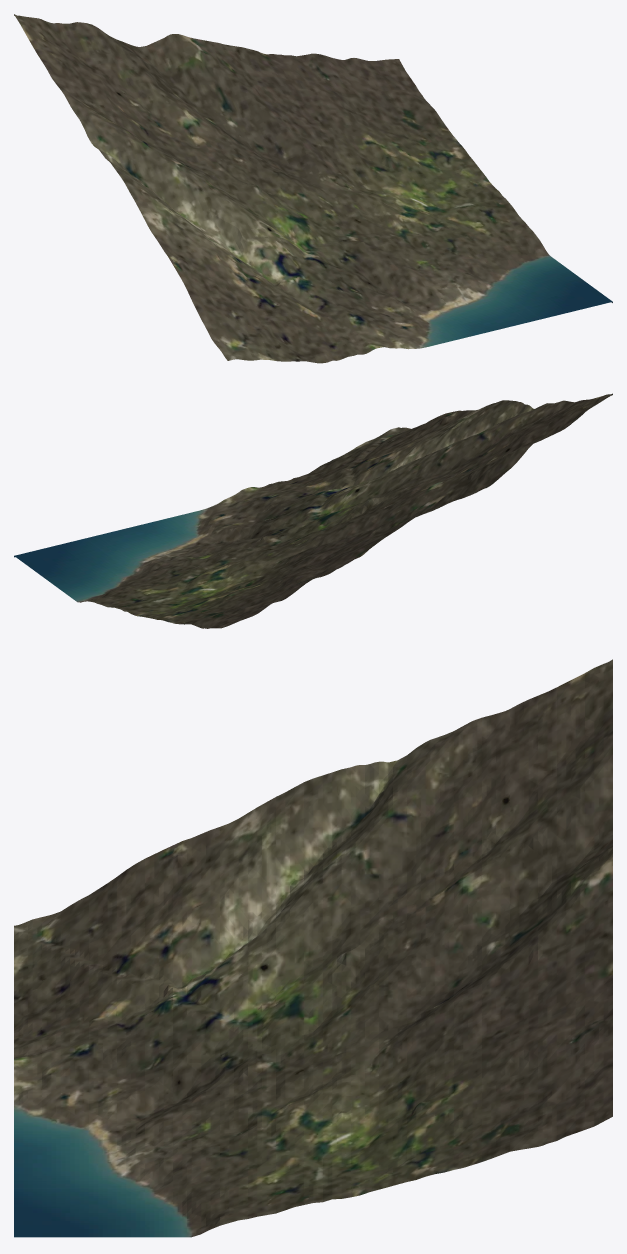
3 renders of one model, top to bottom at view 1: azimuth 30°, elevation 25°; view 2: azimuth 210°, elevation 25°; view 3: azimuth 270°, elevation 25°, orthographic. The views are drawn at different scales.
Size of the model in its own units: 250 by 141 by 241.
Materials: 1 (1 with a texture image).
